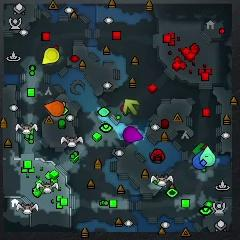p1: (193, 151, 204, 169)
p2: (201, 146, 215, 167)
p3: (124, 126, 143, 143)
p4: (42, 47, 59, 65)
p5: (44, 100, 64, 118)
x2: (124, 98, 139, 115)
x4: (193, 143, 205, 154)
